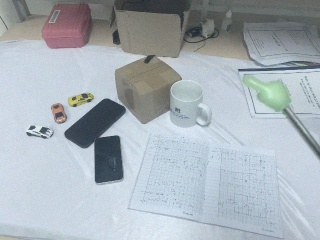box: (115, 54, 183, 125), (112, 1, 190, 57), (40, 1, 94, 51)
cup: (168, 80, 214, 129)
phone: (64, 96, 126, 149), (93, 135, 124, 185)
toy_car: (26, 124, 54, 139), (68, 92, 94, 107), (51, 103, 67, 124)
